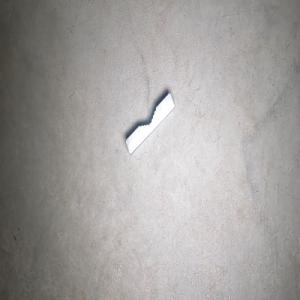ClampPart: (124, 91, 175, 156)
